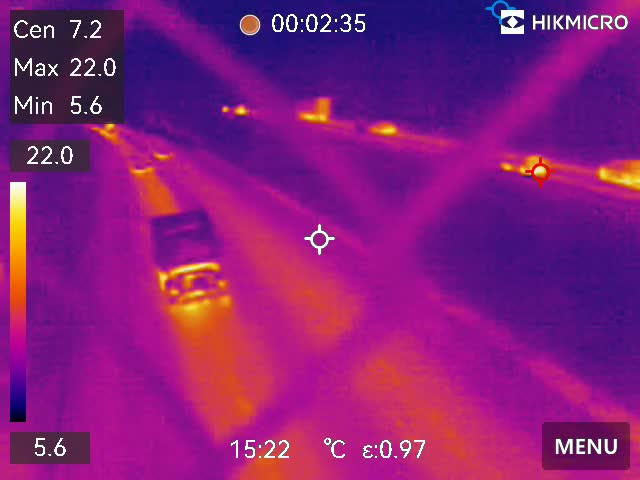heavyTruck: (145, 211, 236, 315), (284, 93, 336, 124)
vehicle: (501, 144, 544, 181), (370, 117, 398, 134)
